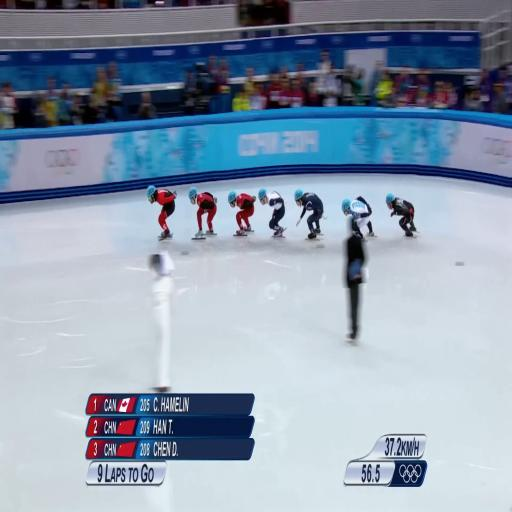Skater: (147, 186, 176, 240), (295, 190, 326, 239), (342, 196, 375, 240), (189, 187, 217, 238), (386, 193, 416, 237), (258, 189, 285, 237), (228, 192, 256, 236)
